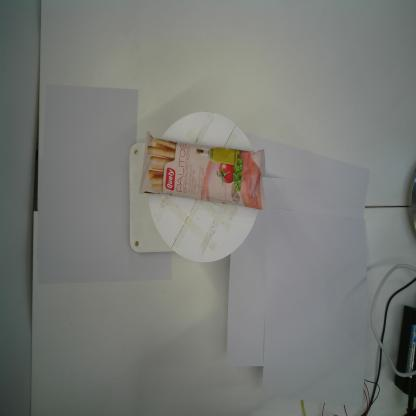Dessert: (138, 128, 270, 215)
